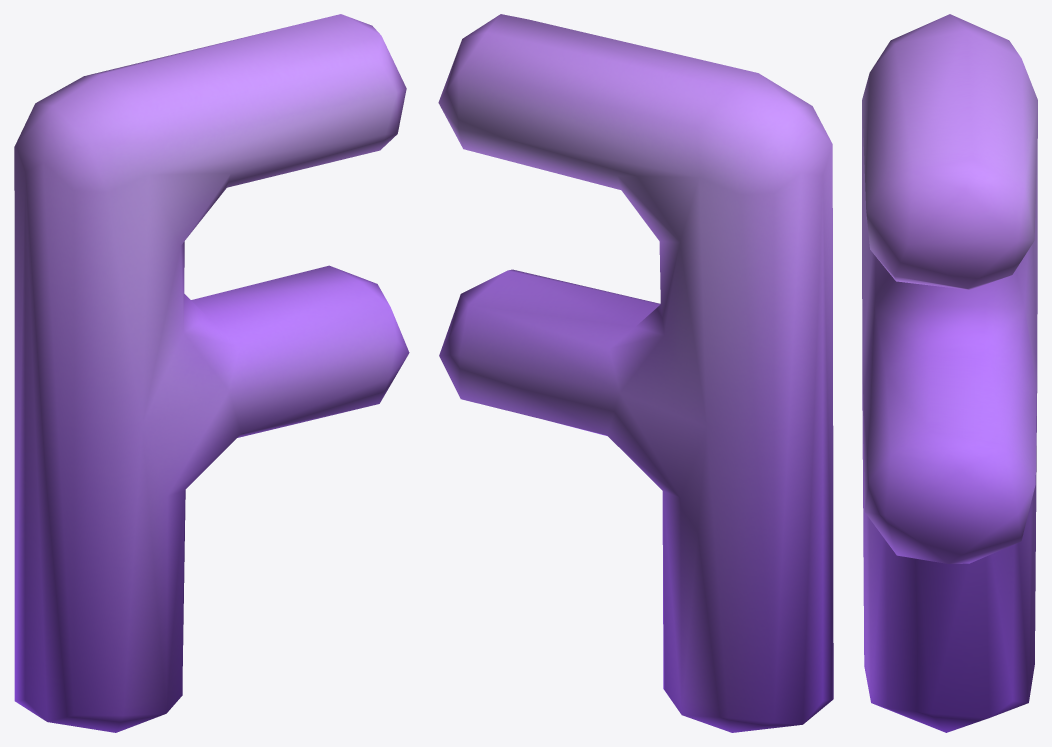
The picture shows the model from 3 angles, left to right: view 1: azimuth 30°, elevation 25°; view 2: azimuth 150°, elevation 25°; view 3: azimuth 270°, elevation 25°; orthographic projection. The views are drawn at different scales.
Parts seen in each view (by area): view 1: Processed_Mesh0_Geometry; view 2: Processed_Mesh0_Geometry; view 3: Processed_Mesh0_Geometry.
Boxes of the visible parts, x1,y1,x2,y2 form: Processed_Mesh0_Geometry: (14,14,409,732); Processed_Mesh0_Geometry: (438,14,833,732); Processed_Mesh0_Geometry: (862,14,1037,732).
Size of what is drawn, in the model's own units: 0.0496 by 0.083 by 0.0193.
Materials: 1 (1 with a texture image).
